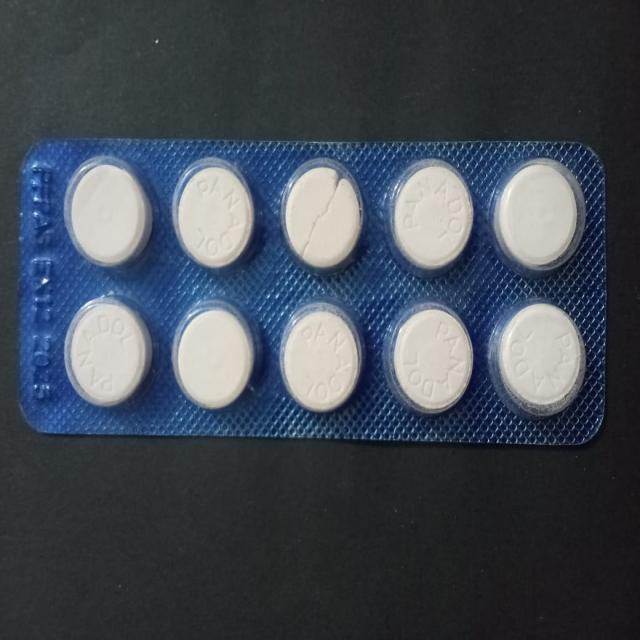defect: (277, 155, 369, 279)
